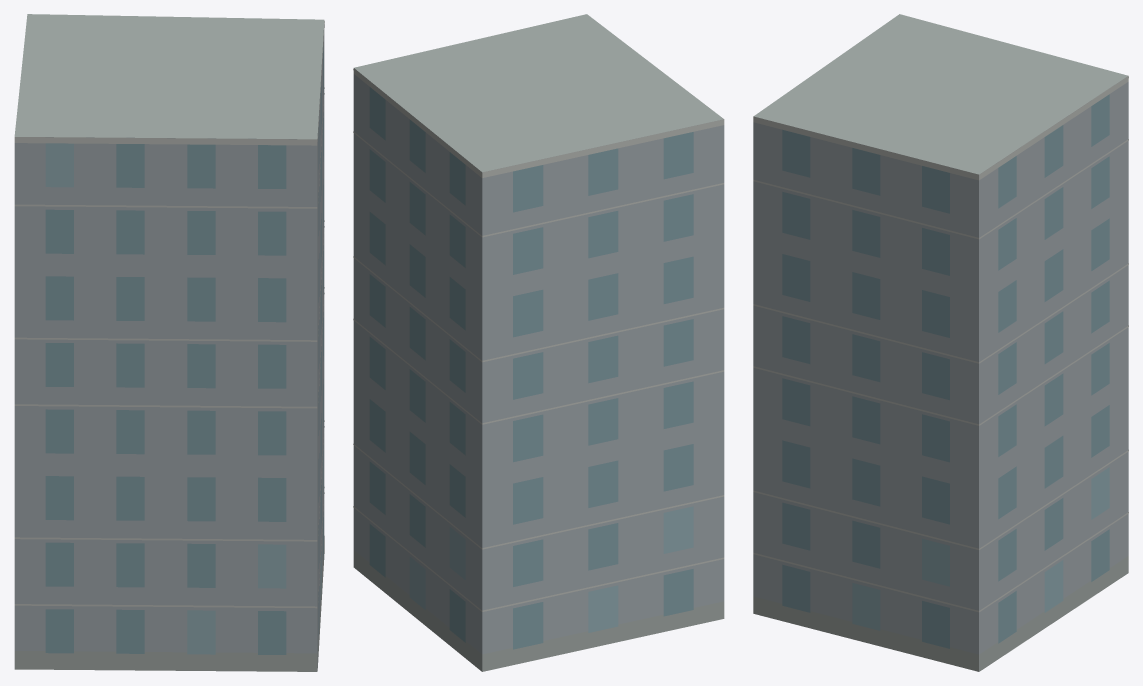
The model's file is survey-upis-32747165.glb.
3 views of the same model, side by side, from view 1: azimuth 30°, elevation 25°; view 2: azimuth 150°, elevation 25°; view 3: azimuth 270°, elevation 25° (orthographic). The views are drawn at different scales.
Visible parts, largest first — view 1: survey-upis-32747165.tmp; view 2: survey-upis-32747165.tmp; view 3: survey-upis-32747165.tmp.
Boxes of the visible parts, bbox=[...] form: survey-upis-32747165.tmp: bbox=[14, 14, 324, 671]; survey-upis-32747165.tmp: bbox=[353, 14, 724, 671]; survey-upis-32747165.tmp: bbox=[753, 14, 1128, 671].
Size of the model in its own units: 14.43 by 20.8 by 14.24.
